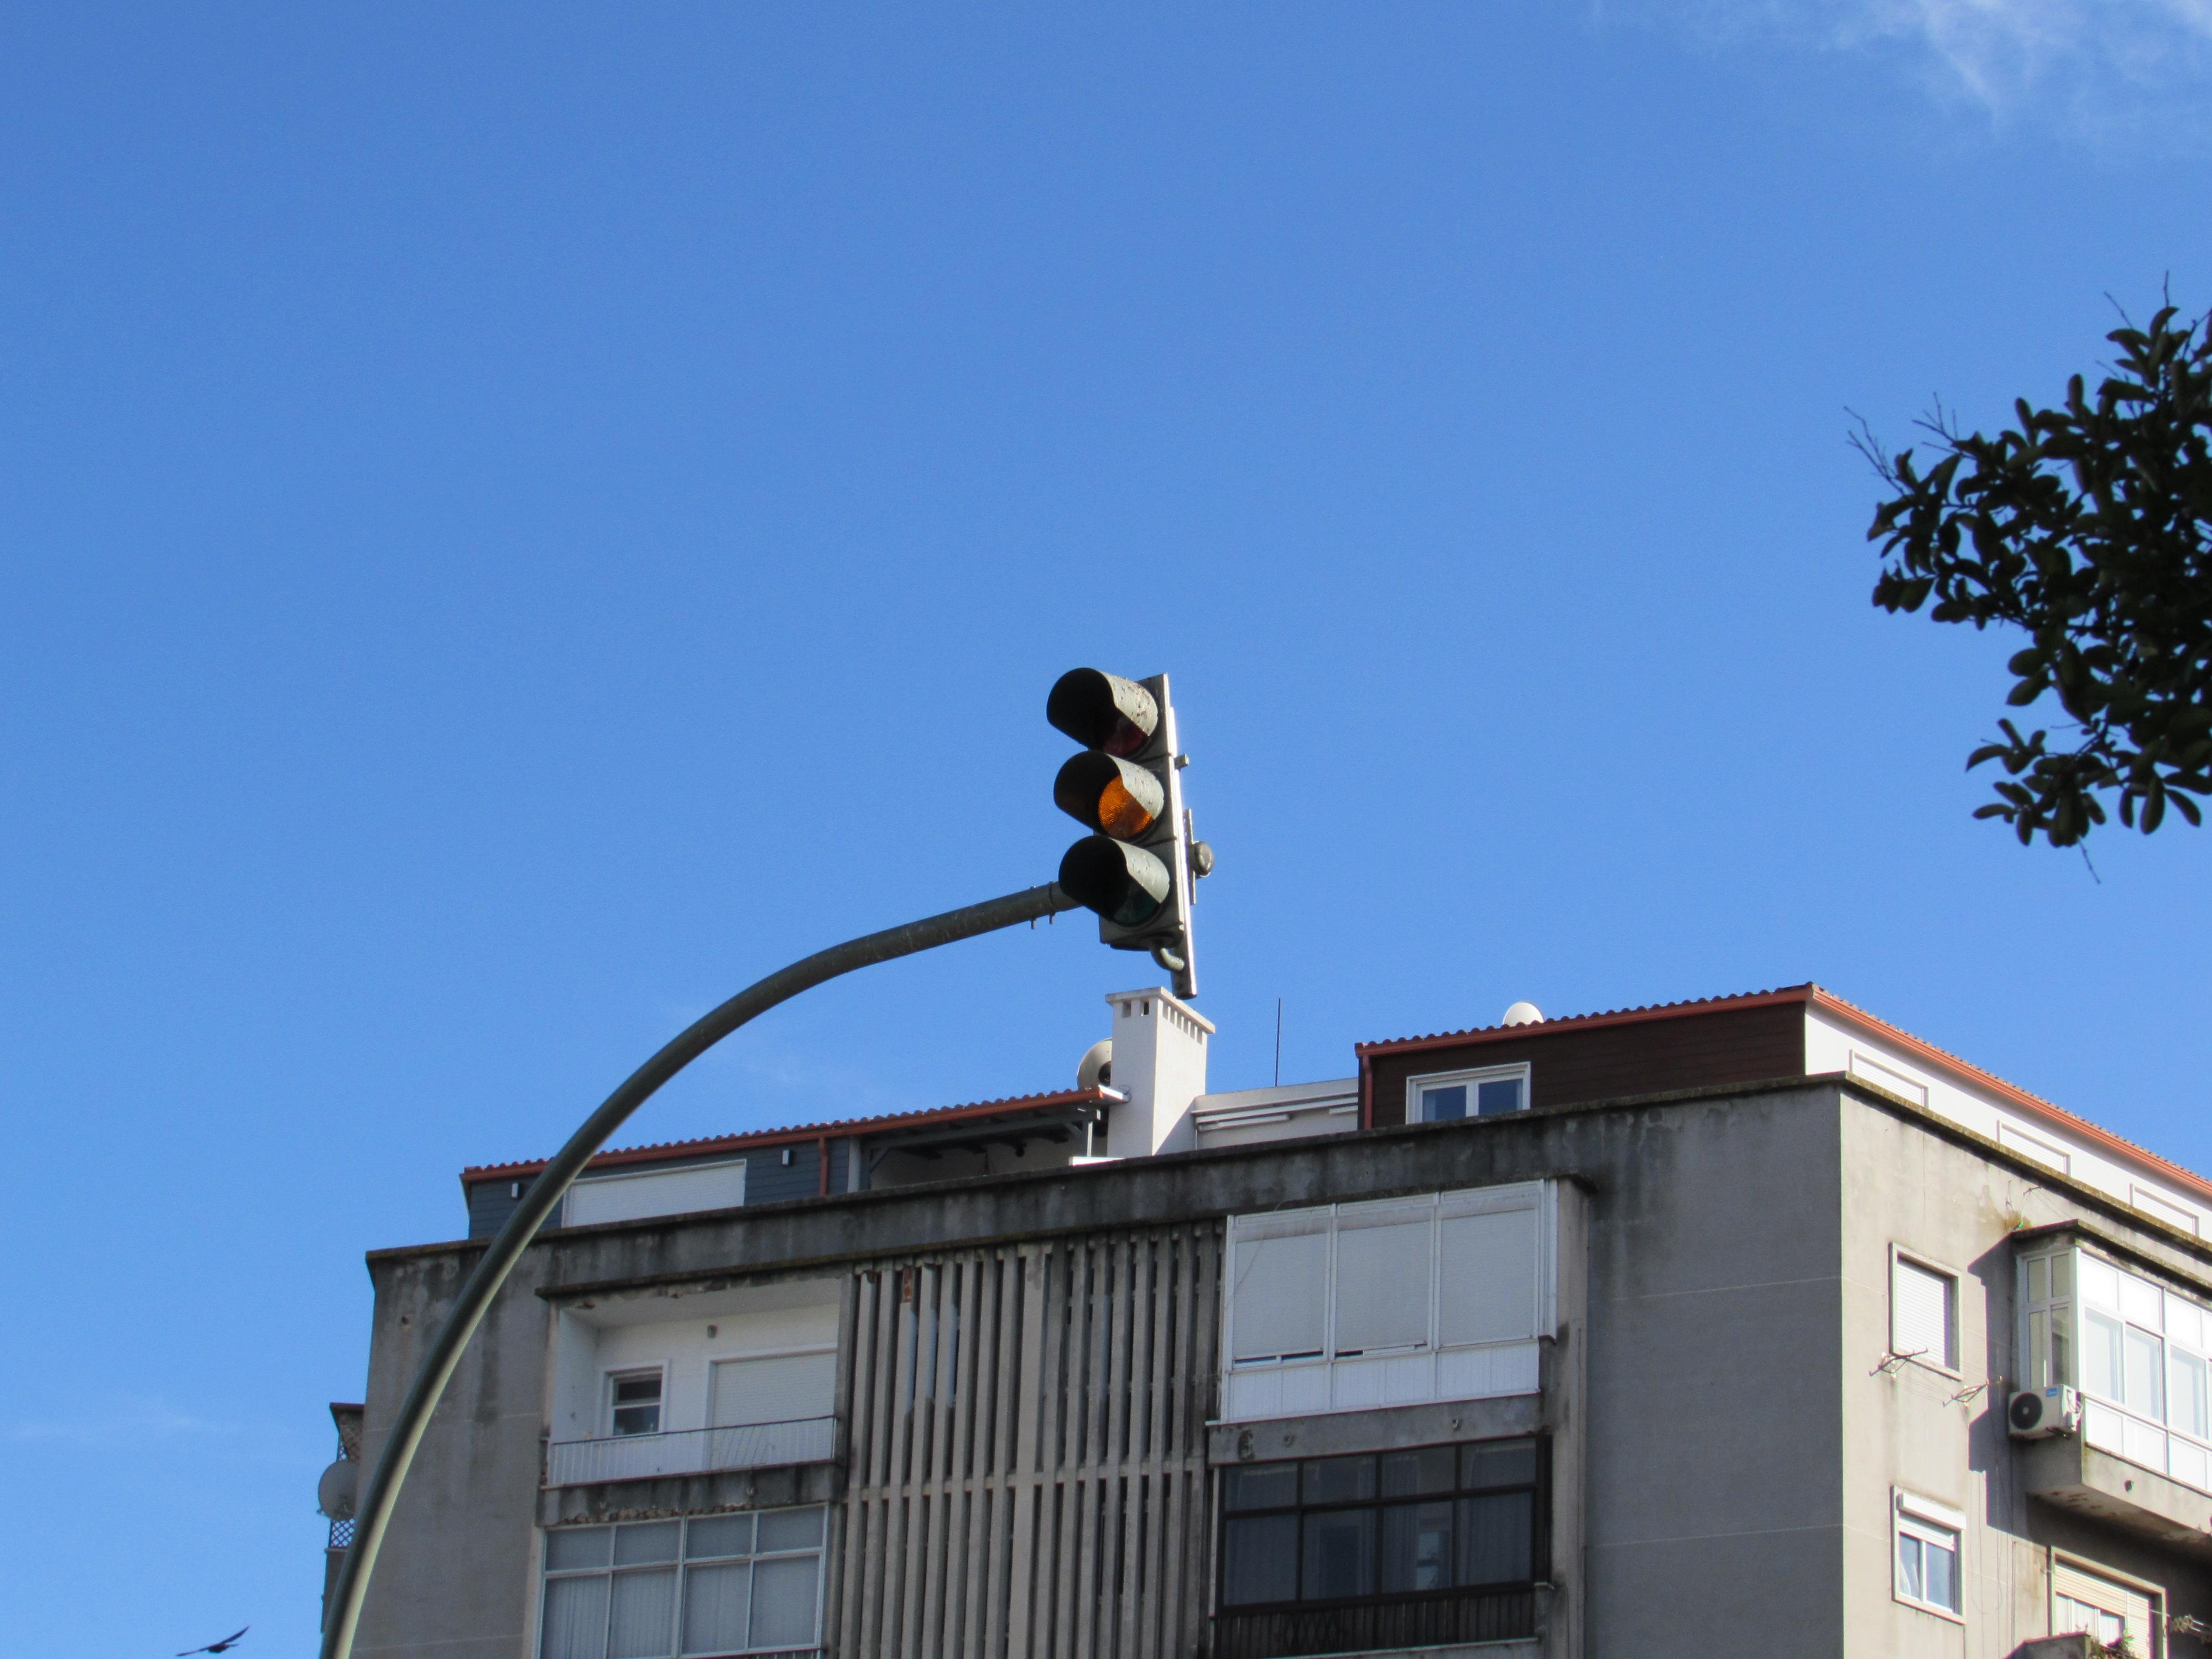yellow_light: (1049, 667, 1191, 951)
